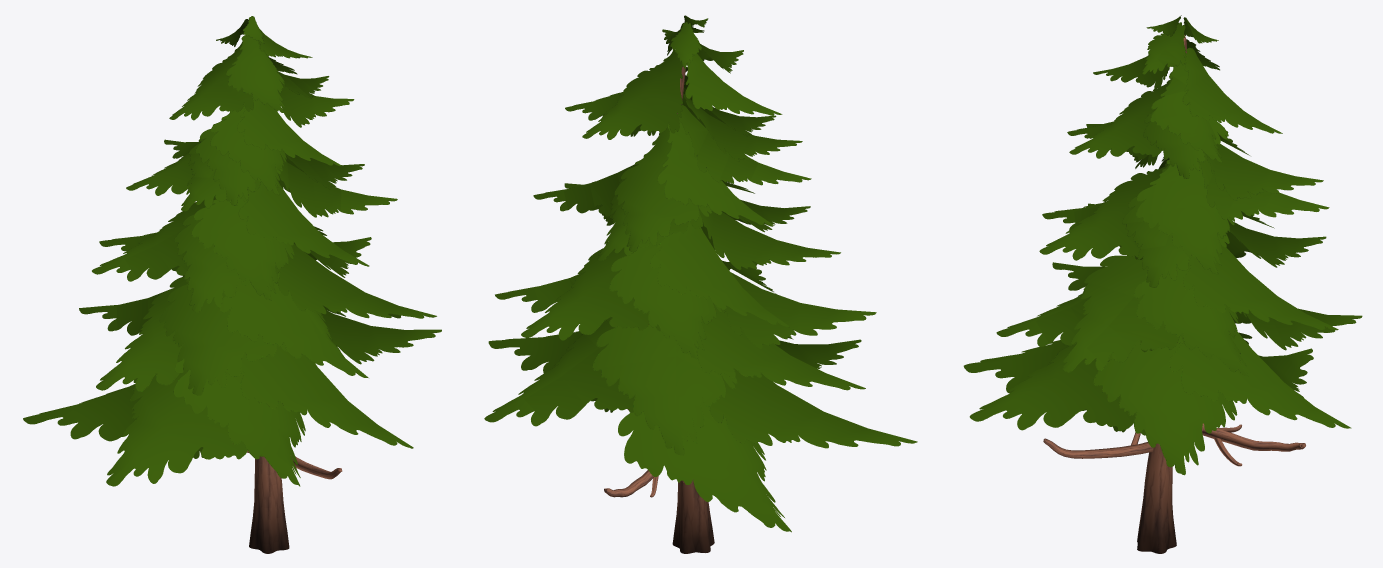
The model's file is Pine_2.glb.
The picture shows the model from 3 angles, left to right: view 1: azimuth 30°, elevation 25°; view 2: azimuth 150°, elevation 25°; view 3: azimuth 270°, elevation 25°; orthographic projection. The views are drawn at different scales.
Parts seen in each view (by area): view 1: Pine_2; view 2: Pine_2; view 3: Pine_2.
Part boxes in pixels (<box>): Pine_2: <box>23,16,441,553</box>; Pine_2: <box>484,15,917,553</box>; Pine_2: <box>963,15,1362,553</box>.
Size of the model in its own units: 5.73 by 7.38 by 5.22.
Materials: 2 (2 with a texture image).
